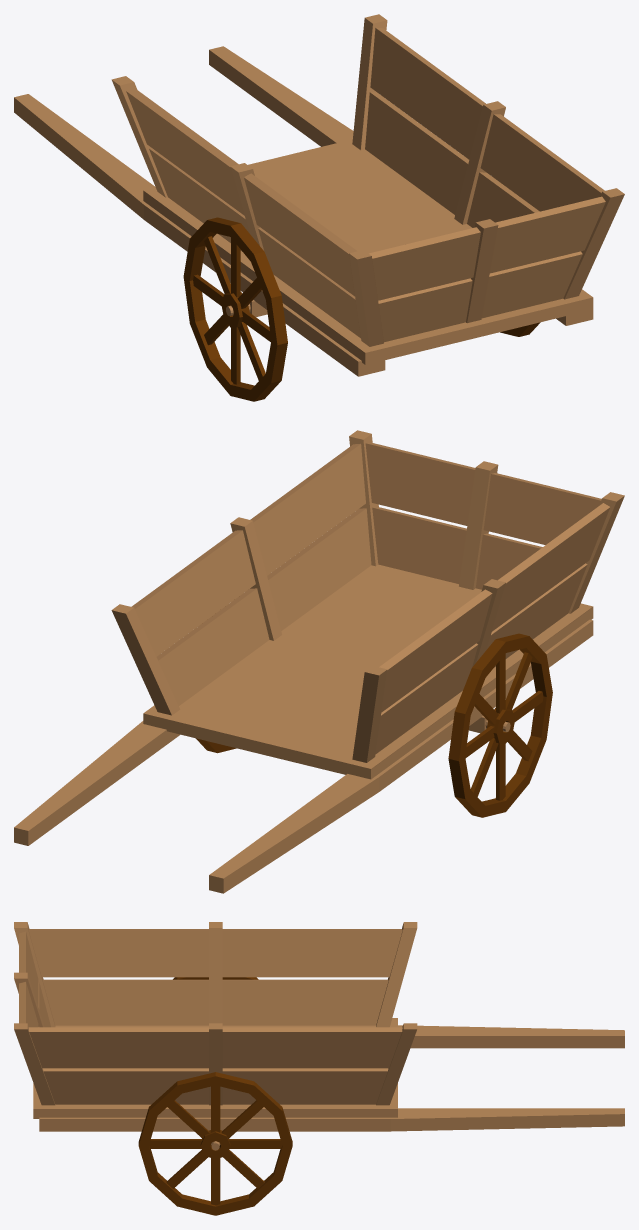
The model's file is cart.fbx.
3 renders of one model, top to bottom at view 1: azimuth 30°, elevation 25°; view 2: azimuth 150°, elevation 25°; view 3: azimuth 270°, elevation 25°, orthographic. The views are drawn at different scales.
Visible parts, largest first — view 1: Cart; view 2: Cart; view 3: Cart.
Part boxes in pixels (bbox=[...]): Cart: bbox=[14, 14, 624, 401]; Cart: bbox=[14, 430, 624, 893]; Cart: bbox=[14, 922, 624, 1215].
Size of the model in its own units: 159 by 123 by 367.
